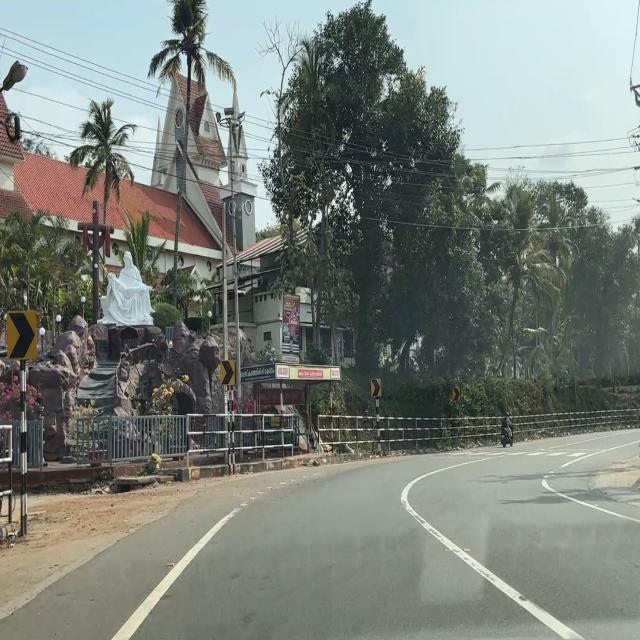TURN_RIGHT: (6, 310, 38, 360), (220, 360, 236, 386), (370, 378, 382, 398), (452, 386, 461, 401)
